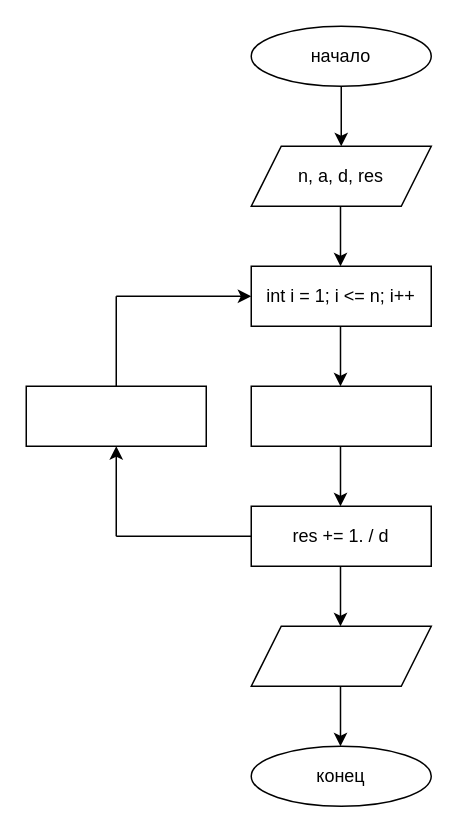
The diagram is 458 pixels wide and 833 high, and some of its shapes have lost their labels. Here are the shapes that lost their labels. From the top down, the centre of each, then its label:
At point 115,415: "i++".
At point 340,415: "d *= a + i".
At point 340,655: "res".
